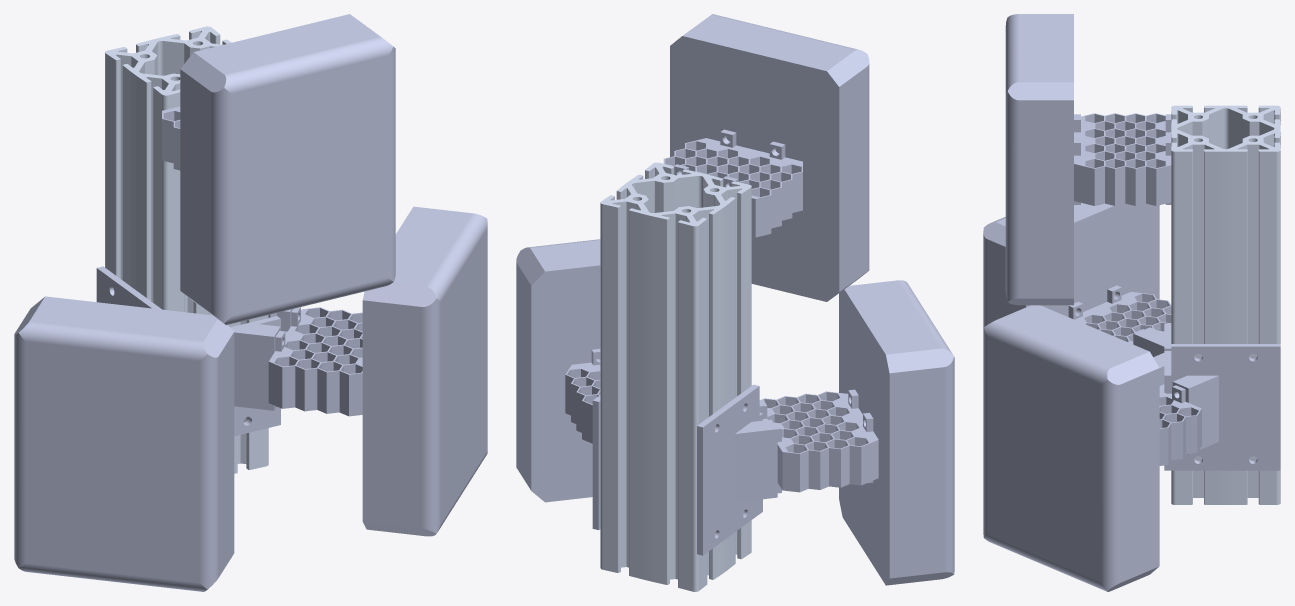
The model's file is honeycomb_sample.glb.
3 renders of one model, left to right at view 1: azimuth 30°, elevation 25°; view 2: azimuth 150°, elevation 25°; view 3: azimuth 270°, elevation 25°, orthographic. The views are drawn at different scales.
Visible parts, largest first — view 1: foam-2, foam-1, foam-3, Future Iteration Foam Mounts, tpu_spring_iteration_2-3, Mirrortpu_side_mount_iteration_1-2, tpu_side_mount_iteration_1-1, tpu_spring_iteration_2-1; view 2: Future Iteration Foam Mounts, foam-1, foam-2, foam-3, tpu_side_mount_iteration_1-1, tpu_spring_iteration_2-2, tpu_spring_iteration_2-1, tpu_spring_iteration_2-3, Mirrortpu_side_mount_iteration_1-2; view 3: foam-3, Future Iteration Foam Mounts, foam-1, Mirrortpu_side_mount_iteration_1-2, foam-2, tpu_spring_iteration_2-1, tpu_spring_iteration_2-2, tpu_spring_iteration_2-3, tpu_side_mount_iteration_1-1.
Part boxes in pixels (x1,y1,x2,y2): foam-2: (14,296,234,591); foam-1: (180,14,395,325); foam-3: (362,206,487,536); Future Iteration Foam Mounts: (105,26,268,473); tpu_spring_iteration_2-3: (268,307,362,416); Mirrortpu_side_mount_iteration_1-2: (230,309,292,436); tpu_side_mount_iteration_1-1: (96,266,161,309); tpu_spring_iteration_2-1: (162,106,180,170); Future Iteration Foam Mounts: (600,162,751,591); foam-1: (670,14,869,301); foam-2: (839,280,954,585); foam-3: (516,239,600,502); tpu_side_mount_iteration_1-1: (697,384,777,555); tpu_spring_iteration_2-2: (759,389,878,493); tpu_spring_iteration_2-1: (663,129,802,237); tpu_spring_iteration_2-3: (565,348,600,443); Mirrortpu_side_mount_iteration_1-2: (592,395,600,530); foam-3: (983,305,1159,591); Future Iteration Foam Mounts: (1171,105,1280,504); foam-1: (1005,14,1073,305); Mirrortpu_side_mount_iteration_1-2: (1153,344,1280,470); foam-2: (983,203,1159,327); tpu_spring_iteration_2-1: (1074,113,1171,205); tpu_spring_iteration_2-2: (1068,285,1171,344); tpu_spring_iteration_2-3: (1159,385,1201,465); tpu_side_mount_iteration_1-1: (1134,323,1171,357).
Size of the model in its own units: 0.3546 by 0.36 by 0.2173.
